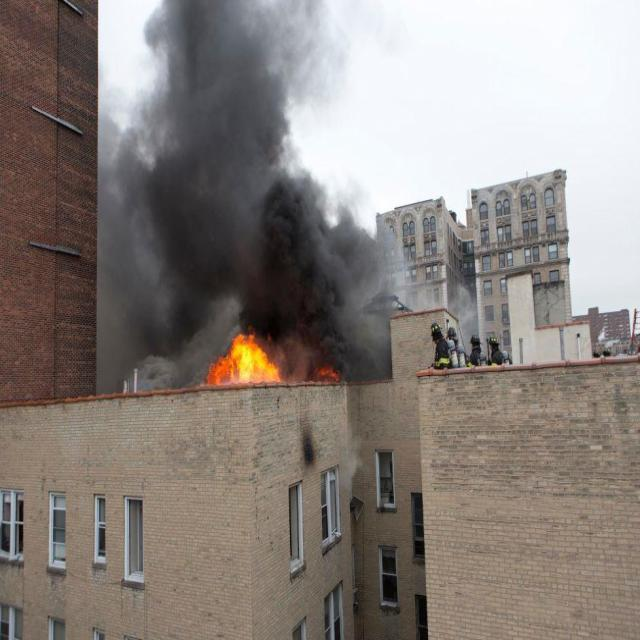Fire: (205, 324, 288, 392)
